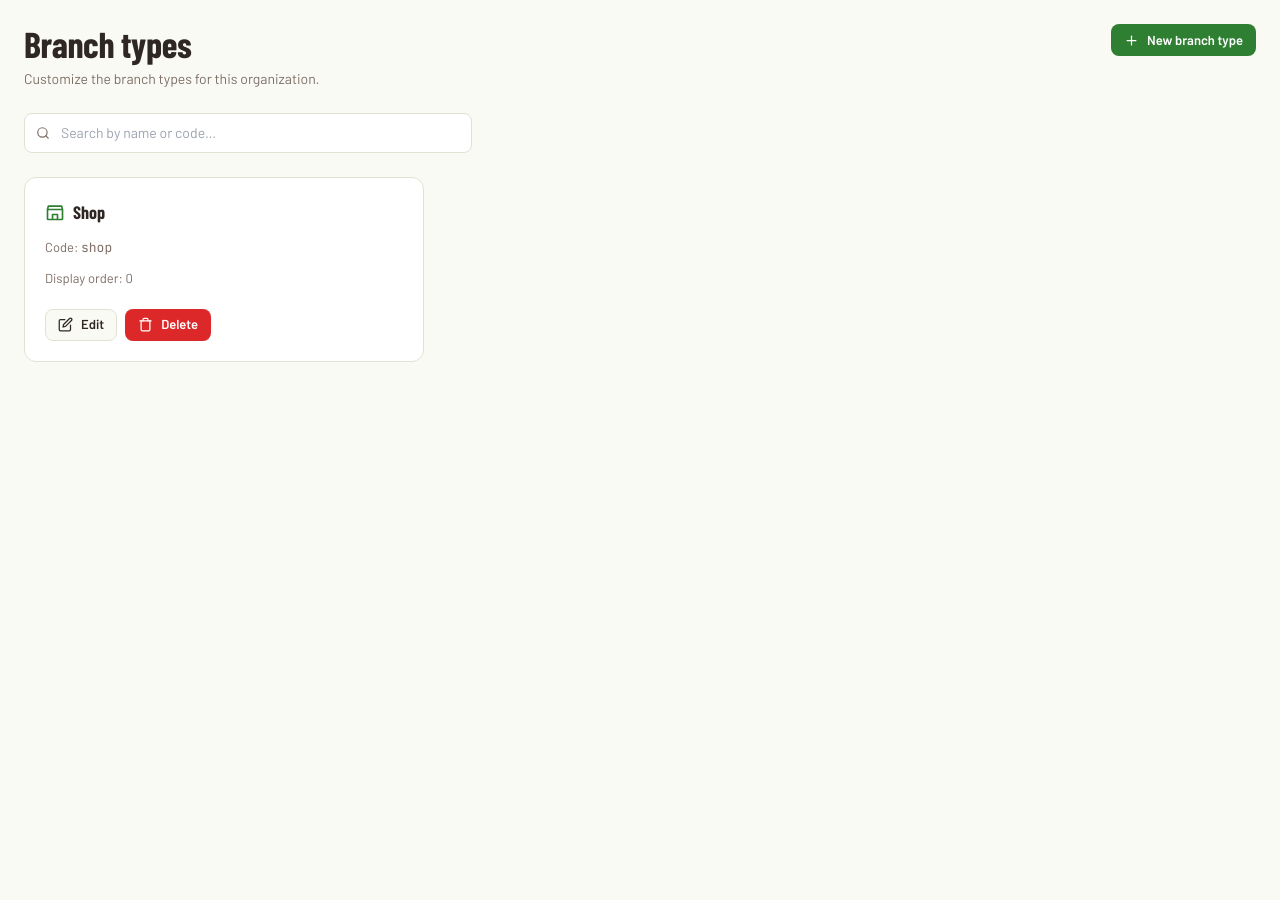
Scenario: branch type management › shows an in-use deletion conflict inside the confirmation and preserves the type
What coordinates should you click on to do the following:
click the button "Delete"
I would click on:
 (168, 325)
Its box is left=125, top=309, right=211, bottom=341.
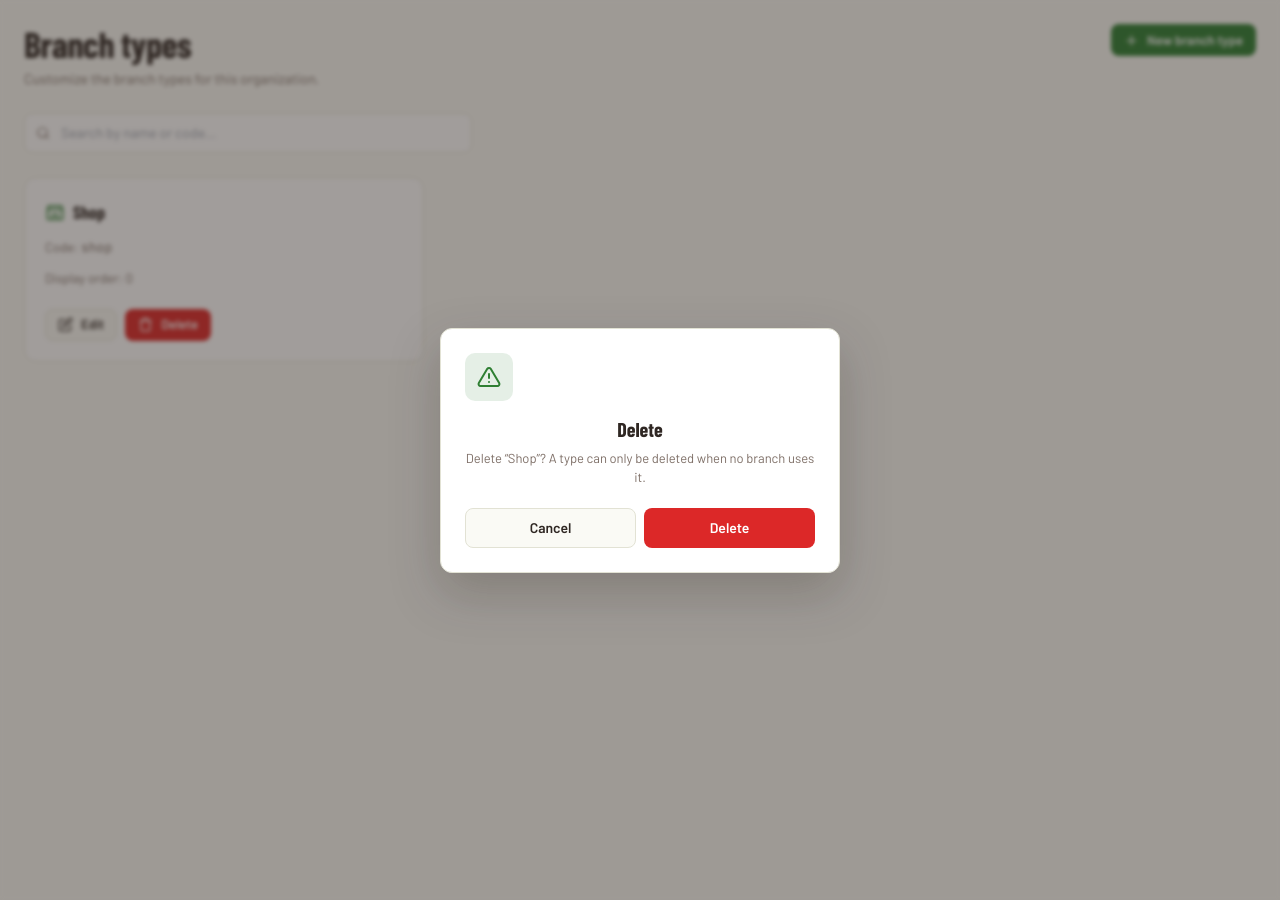
What coordinates should you click on to do the following:
click the button "Delete"
I would click on:
 (730, 528)
Its box is left=644, top=508, right=815, bottom=548.
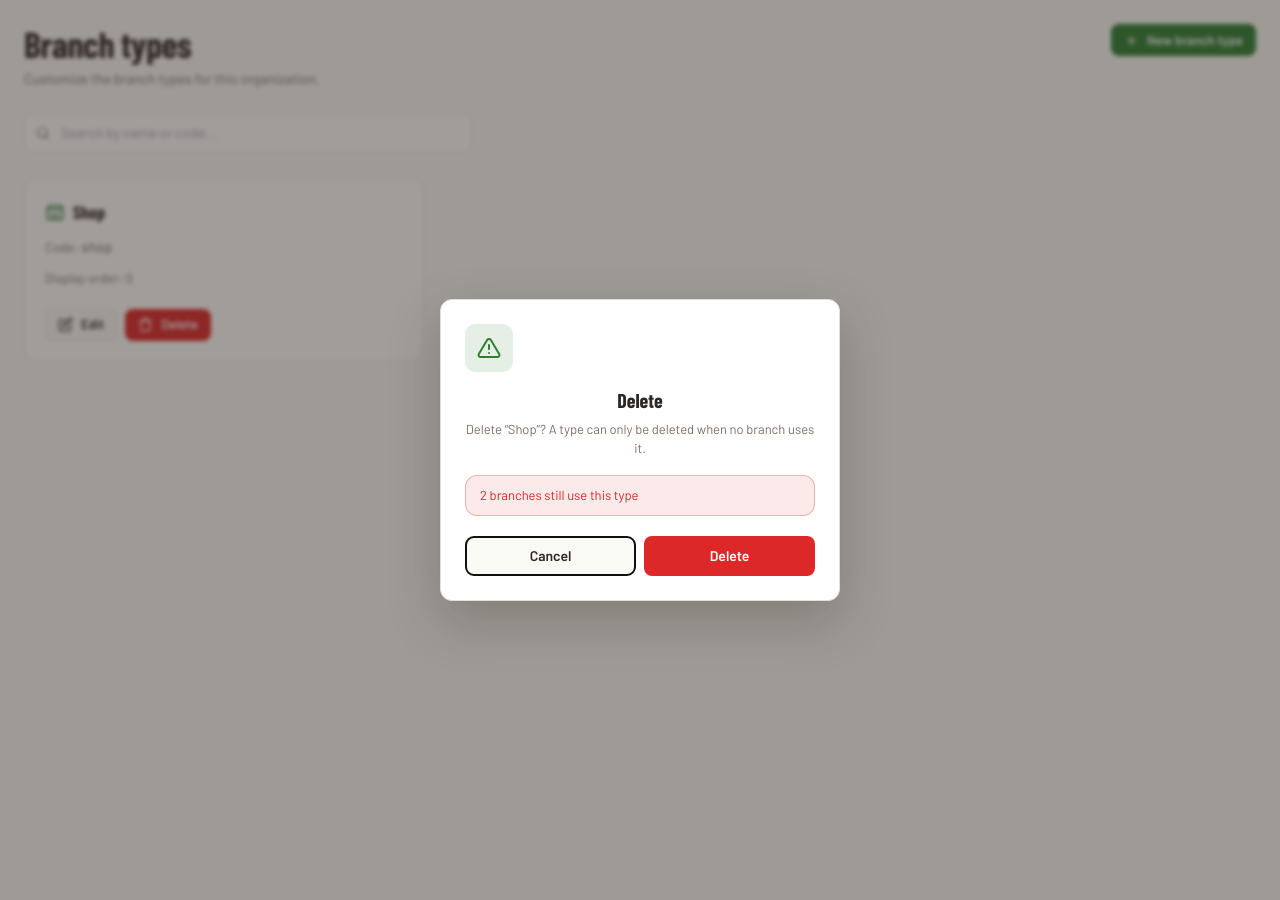
Expected: the heading "Shop" is shown, left=73, top=198, right=105, bottom=226
Result: the text "2 branches still use this type" is shown at left=465, top=475, right=815, bottom=516
